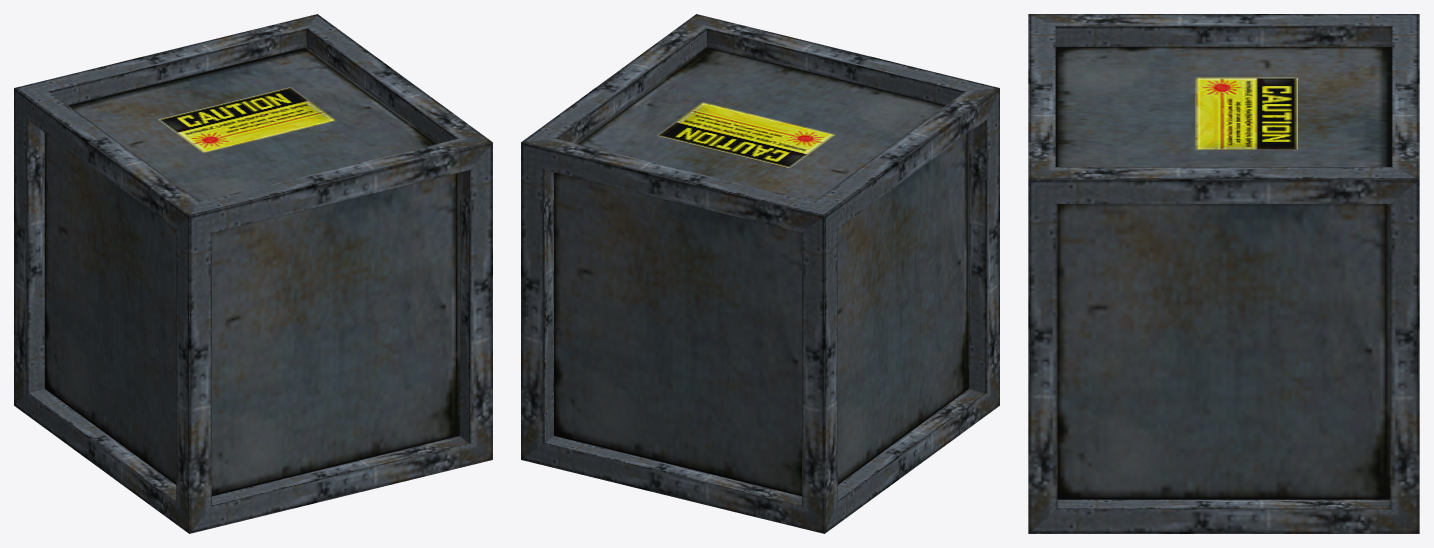
The model's file is Model_Crate_07.fbx.
3 views of the same model, side by side, from view 1: azimuth 30°, elevation 25°; view 2: azimuth 150°, elevation 25°; view 3: azimuth 270°, elevation 25° (orthographic). The views are drawn at different scales.
Parts seen in each view (by area): view 1: Crates_07; view 2: Crates_07; view 3: Crates_07.
Part boxes in pixels (x1,y1,x2,y2): Crates_07: [14, 14, 492, 533]; Crates_07: [521, 14, 999, 533]; Crates_07: [1028, 14, 1419, 533].
Bounding box in the file's own units: 81.24 × 81.24 × 81.24.
